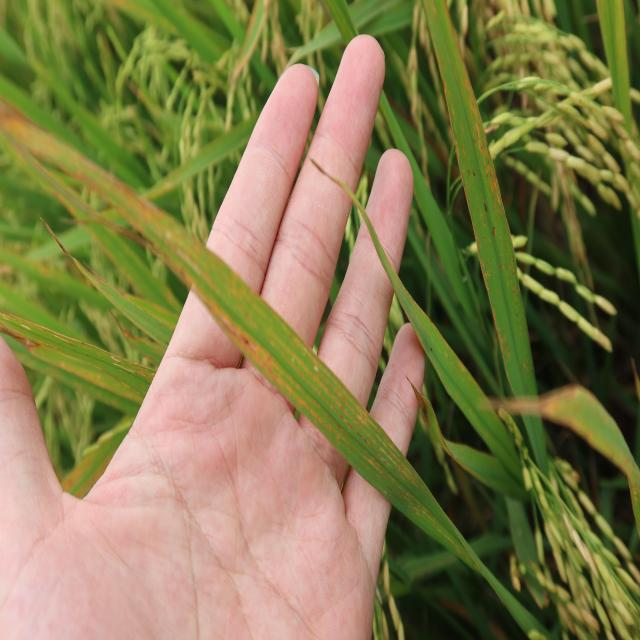Dom soc vi khuan: (194, 284, 323, 424), (467, 87, 506, 227), (404, 491, 469, 559), (376, 434, 419, 488), (386, 255, 416, 310), (344, 394, 379, 430), (492, 300, 511, 362), (362, 453, 385, 474), (479, 256, 491, 293), (460, 122, 466, 159), (511, 278, 519, 304), (475, 231, 482, 253), (443, 78, 450, 97), (480, 207, 485, 230), (457, 362, 465, 374), (455, 140, 460, 158), (509, 263, 515, 276), (452, 102, 456, 121), (444, 340, 450, 350), (444, 349, 449, 360)
